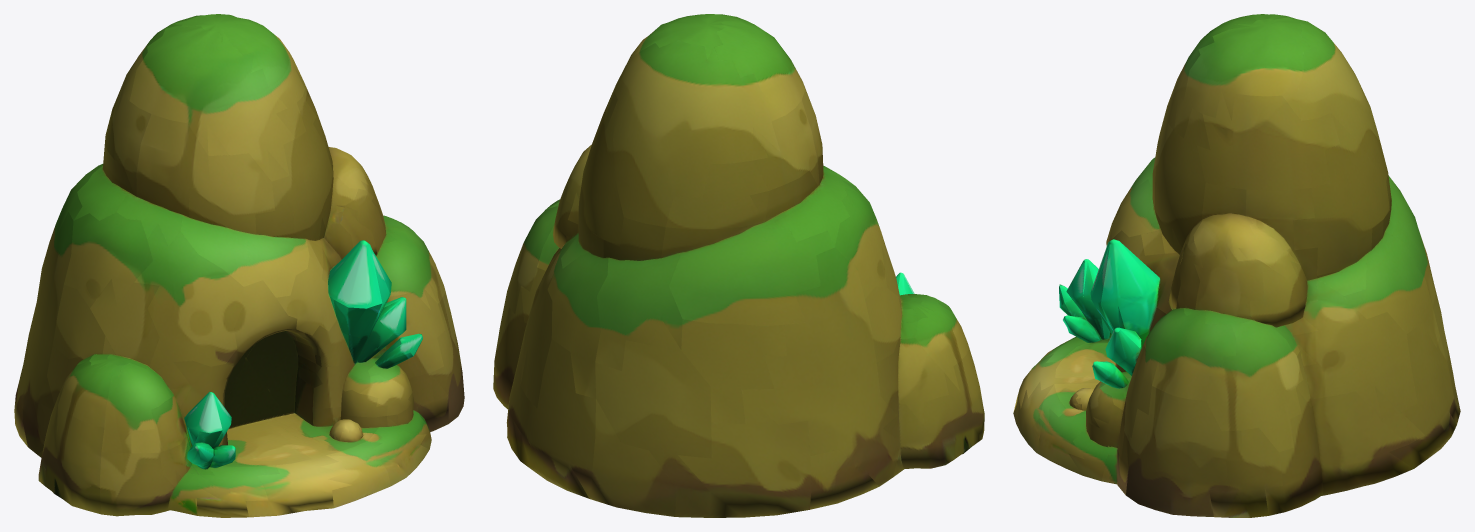
Rendered from map_cueva.glb.
The picture shows the model from 3 angles, left to right: view 1: azimuth 30°, elevation 25°; view 2: azimuth 150°, elevation 25°; view 3: azimuth 270°, elevation 25°; orthographic projection. The views are drawn at different scales.
Size of the model in its own units: 1 by 0.9102 by 0.9395.
1 material, 1 textured.
